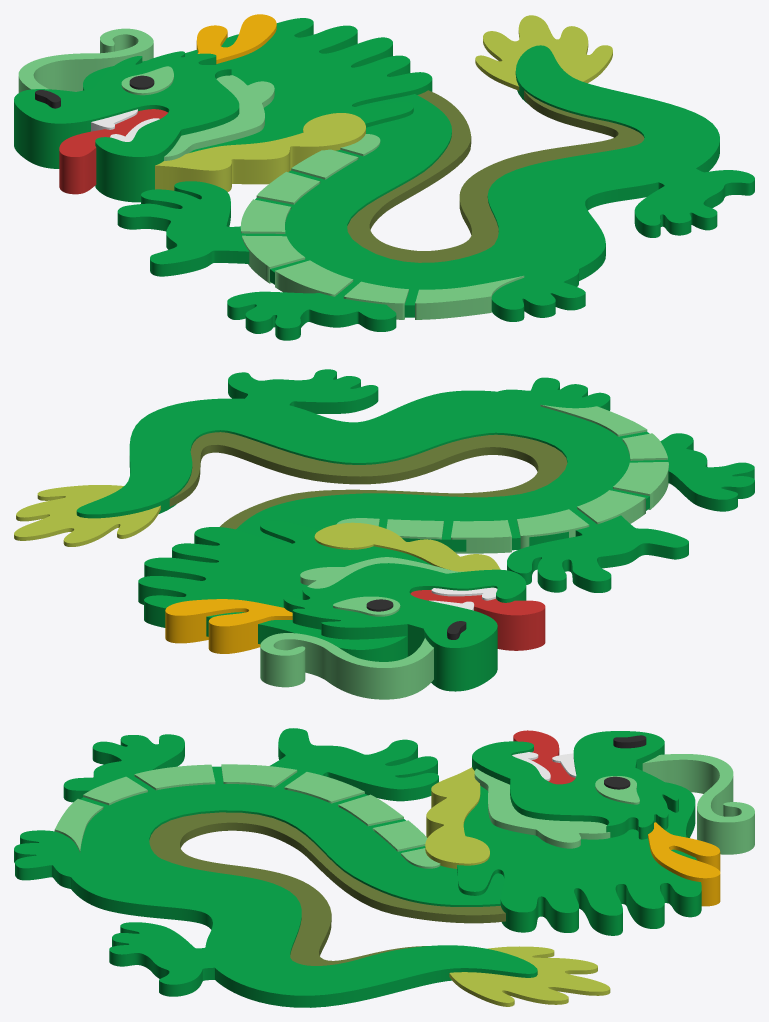
Rendered from emoji_u1f409.glb.
3 views of the same model, one above another, from view 1: azimuth 30°, elevation 25°; view 2: azimuth 150°, elevation 25°; view 3: azimuth 270°, elevation 25° (orthographic). The views are drawn at different scales.
Parts seen in each view (by area): view 1: emoji_u1f409; view 2: emoji_u1f409; view 3: emoji_u1f409.
Part boxes in pixels (<box>): emoji_u1f409: <box>14,14,754,340</box>; emoji_u1f409: <box>14,369,754,699</box>; emoji_u1f409: <box>14,728,754,1007</box>.
Bounding box in the file's own units: 0.0289 × 0.0028 × 0.0334.
